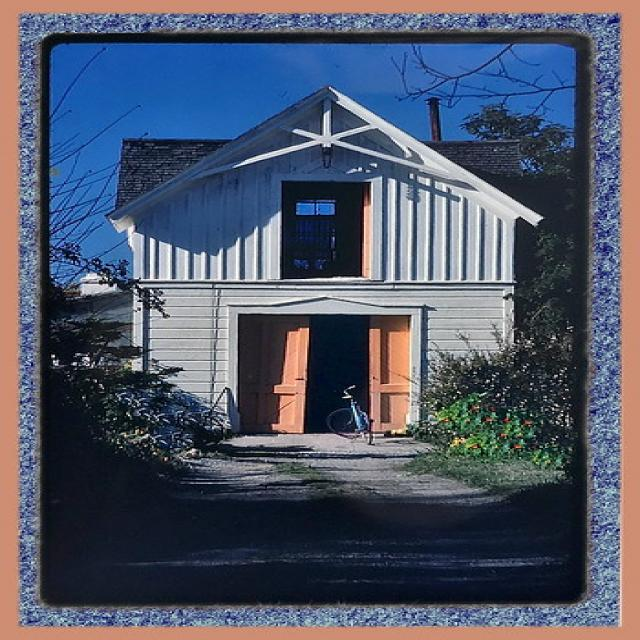Normal_building: (105, 84, 540, 460)
